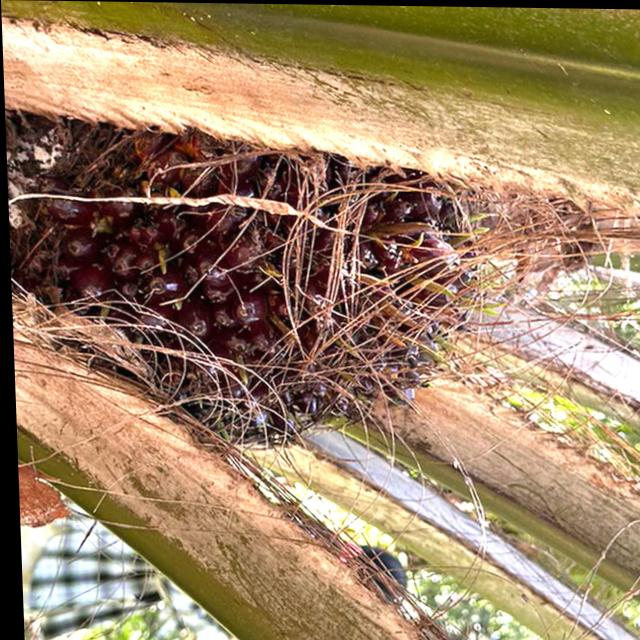almost: (33, 122, 514, 460)
